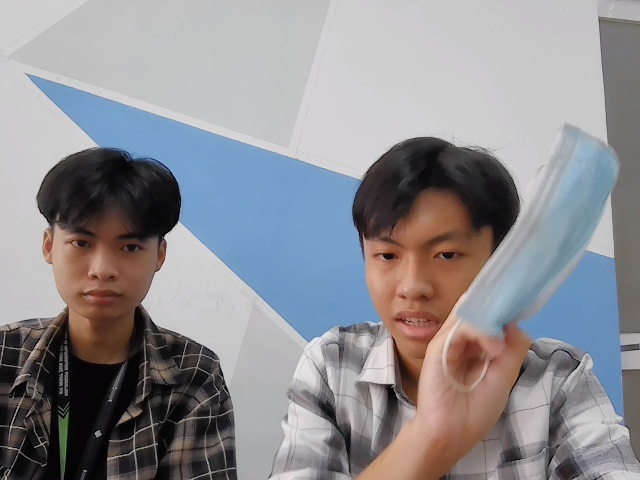human: (352, 140, 521, 371), (35, 149, 183, 319)
mask: (450, 123, 623, 345)
